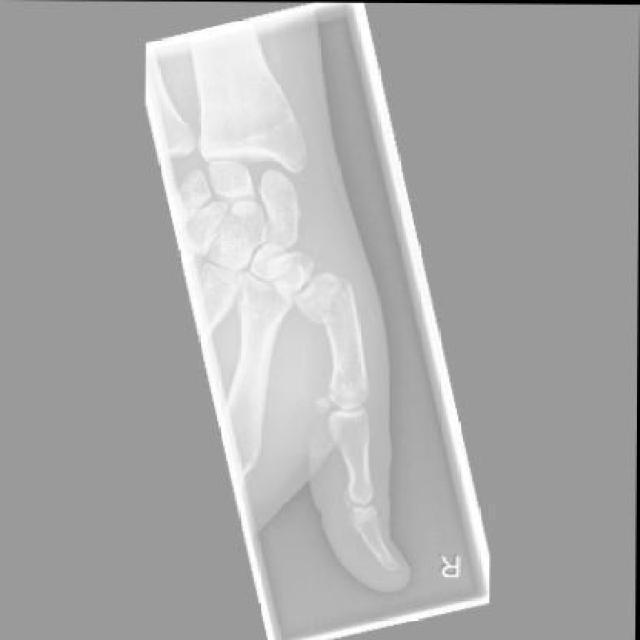Fracture: (305, 276, 362, 330)
